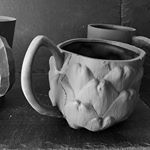cups: (16, 33, 148, 134)
